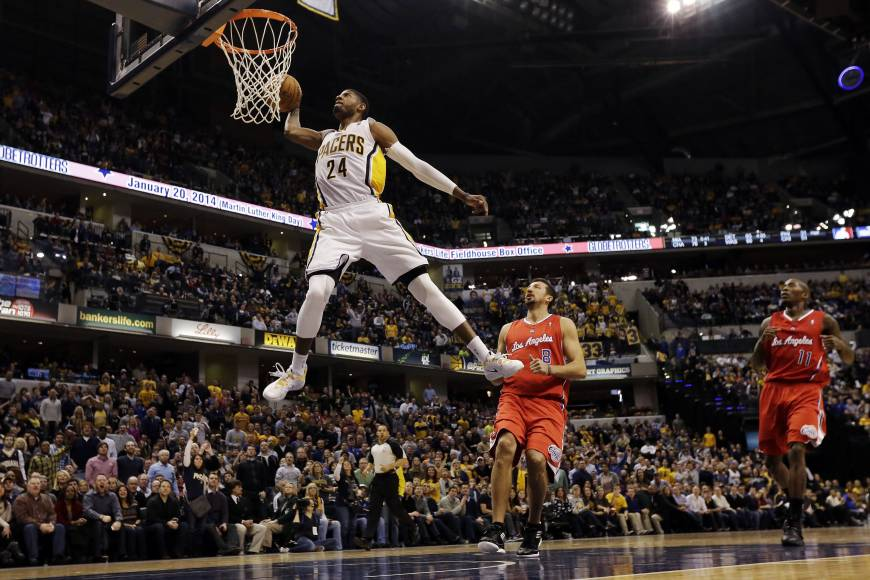basketball: (262, 73, 304, 116)
